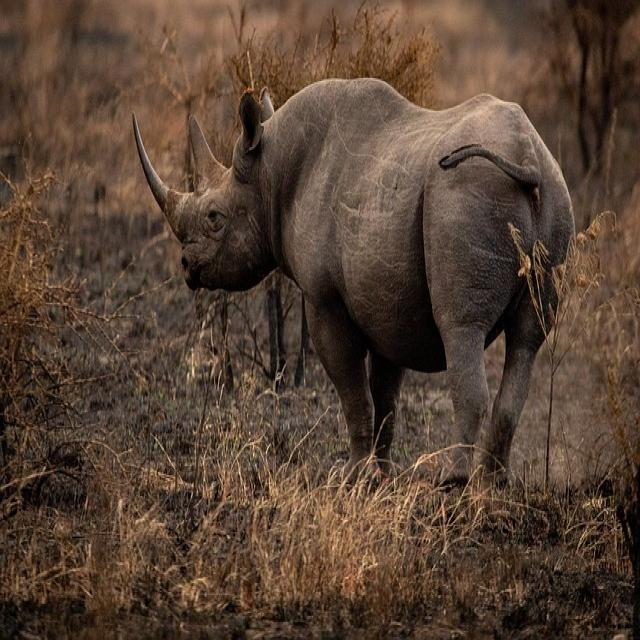Herbivorous: (144, 78, 577, 487)
